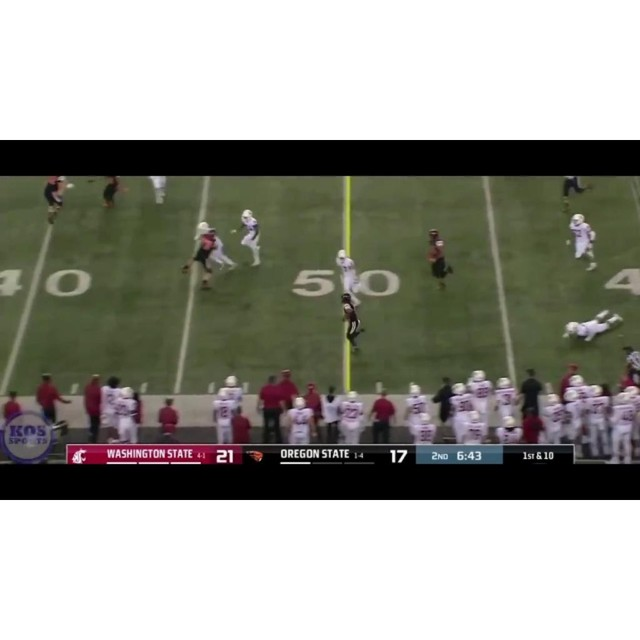american-football-player: (182, 228, 220, 291), (562, 310, 624, 344), (566, 214, 598, 271), (425, 229, 454, 291), (234, 209, 263, 267), (340, 292, 366, 353), (43, 178, 72, 225), (335, 248, 361, 299), (149, 178, 168, 205)
